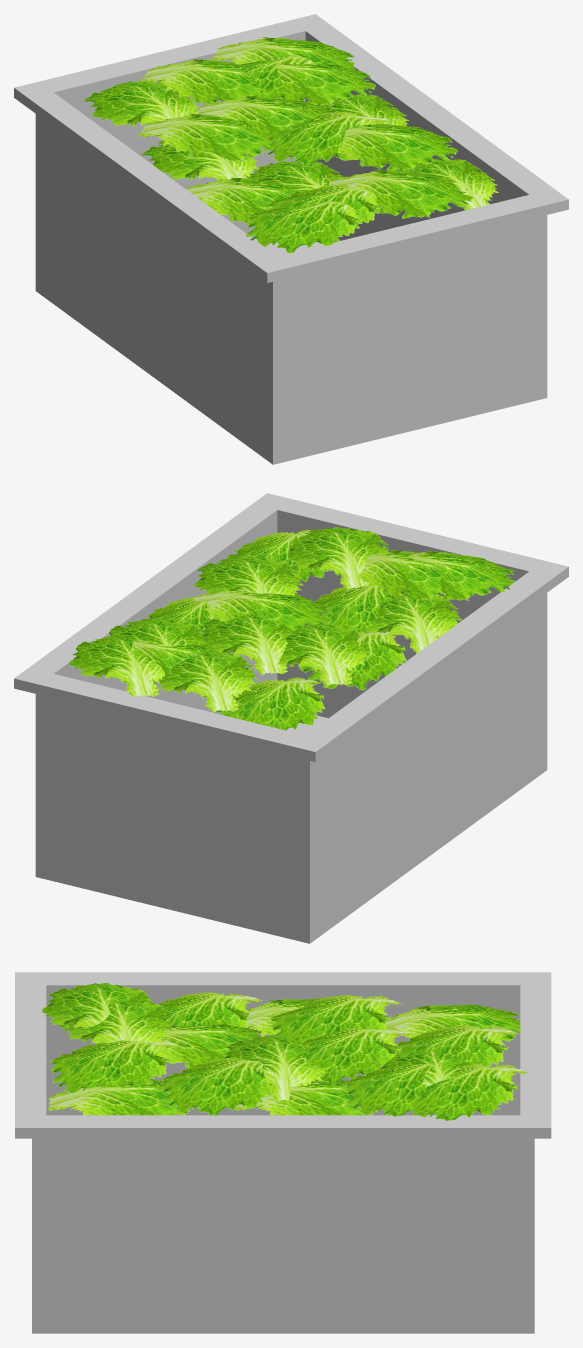
File: BandejaLechuga.fbx
3 views of the same model, one above another, from view 1: azimuth 30°, elevation 25°; view 2: azimuth 150°, elevation 25°; view 3: azimuth 270°, elevation 25° (orthographic). The views are drawn at different scales.
Visible parts, largest first — view 1: Box001, Plane012, Plane005, Plane014, Plane002, Plane015, Plane010, Plane004, Plane016, Plane013, Plane011, Plane017 (+6 smaller); view 2: Box001, Plane015, Plane002, Plane014, Plane010, Plane013, Plane017, Plane004, Plane012, Plane011, Plane003, Plane005 (+6 smaller); view 3: Box001, Plane002, Plane012, Plane017, Plane013, Plane014, Plane004, Plane001, Plane016, Plane015, Plane005, Plane003 (+6 smaller).
Part boxes in pixels (left/top/right/bottom): Box001: left=14, top=14, right=568, bottom=464; Plane012: left=338, top=123, right=457, bottom=170; Plane005: left=245, top=201, right=360, bottom=253; Plane014: left=137, top=113, right=272, bottom=161; Plane002: left=329, top=169, right=472, bottom=218; Plane015: left=140, top=58, right=261, bottom=104; Plane010: left=83, top=81, right=199, bottom=126; Plane004: left=263, top=111, right=393, bottom=167; Plane016: left=276, top=63, right=375, bottom=105; Plane013: left=197, top=95, right=332, bottom=135; Plane011: left=185, top=177, right=292, bottom=222; Plane017: left=211, top=37, right=356, bottom=69; Box001: left=14, top=493, right=568, bottom=943; Plane015: left=154, top=651, right=257, bottom=712; Plane002: left=288, top=527, right=388, bottom=590; Plane014: left=278, top=623, right=371, bottom=686; Plane010: left=210, top=677, right=325, bottom=730; Plane013: left=201, top=615, right=293, bottom=675; Plane017: left=68, top=636, right=164, bottom=696; Plane004: left=192, top=590, right=332, bottom=630; Plane012: left=194, top=556, right=303, bottom=595; Plane011: left=367, top=592, right=461, bottom=653; Plane003: left=357, top=549, right=445, bottom=599; Plane005: left=409, top=550, right=514, bottom=600; Box001: left=15, top=972, right=551, bottom=1333; Plane002: left=47, top=1040, right=182, bottom=1093; Plane012: left=157, top=1057, right=272, bottom=1115; Plane017: left=406, top=1063, right=527, bottom=1120; Plane013: left=303, top=1026, right=412, bottom=1083; Plane014: left=267, top=995, right=402, bottom=1040; Plane004: left=224, top=1035, right=325, bottom=1102; Plane001: left=47, top=1079, right=199, bottom=1115; Plane016: left=342, top=1063, right=432, bottom=1116; Plane015: left=393, top=1025, right=519, bottom=1065; Plane005: left=42, top=983, right=153, bottom=1043; Plane003: left=58, top=1001, right=171, bottom=1043.
Bounding box in the file's own units: 0.4776 × 0.3002 × 0.6624.
